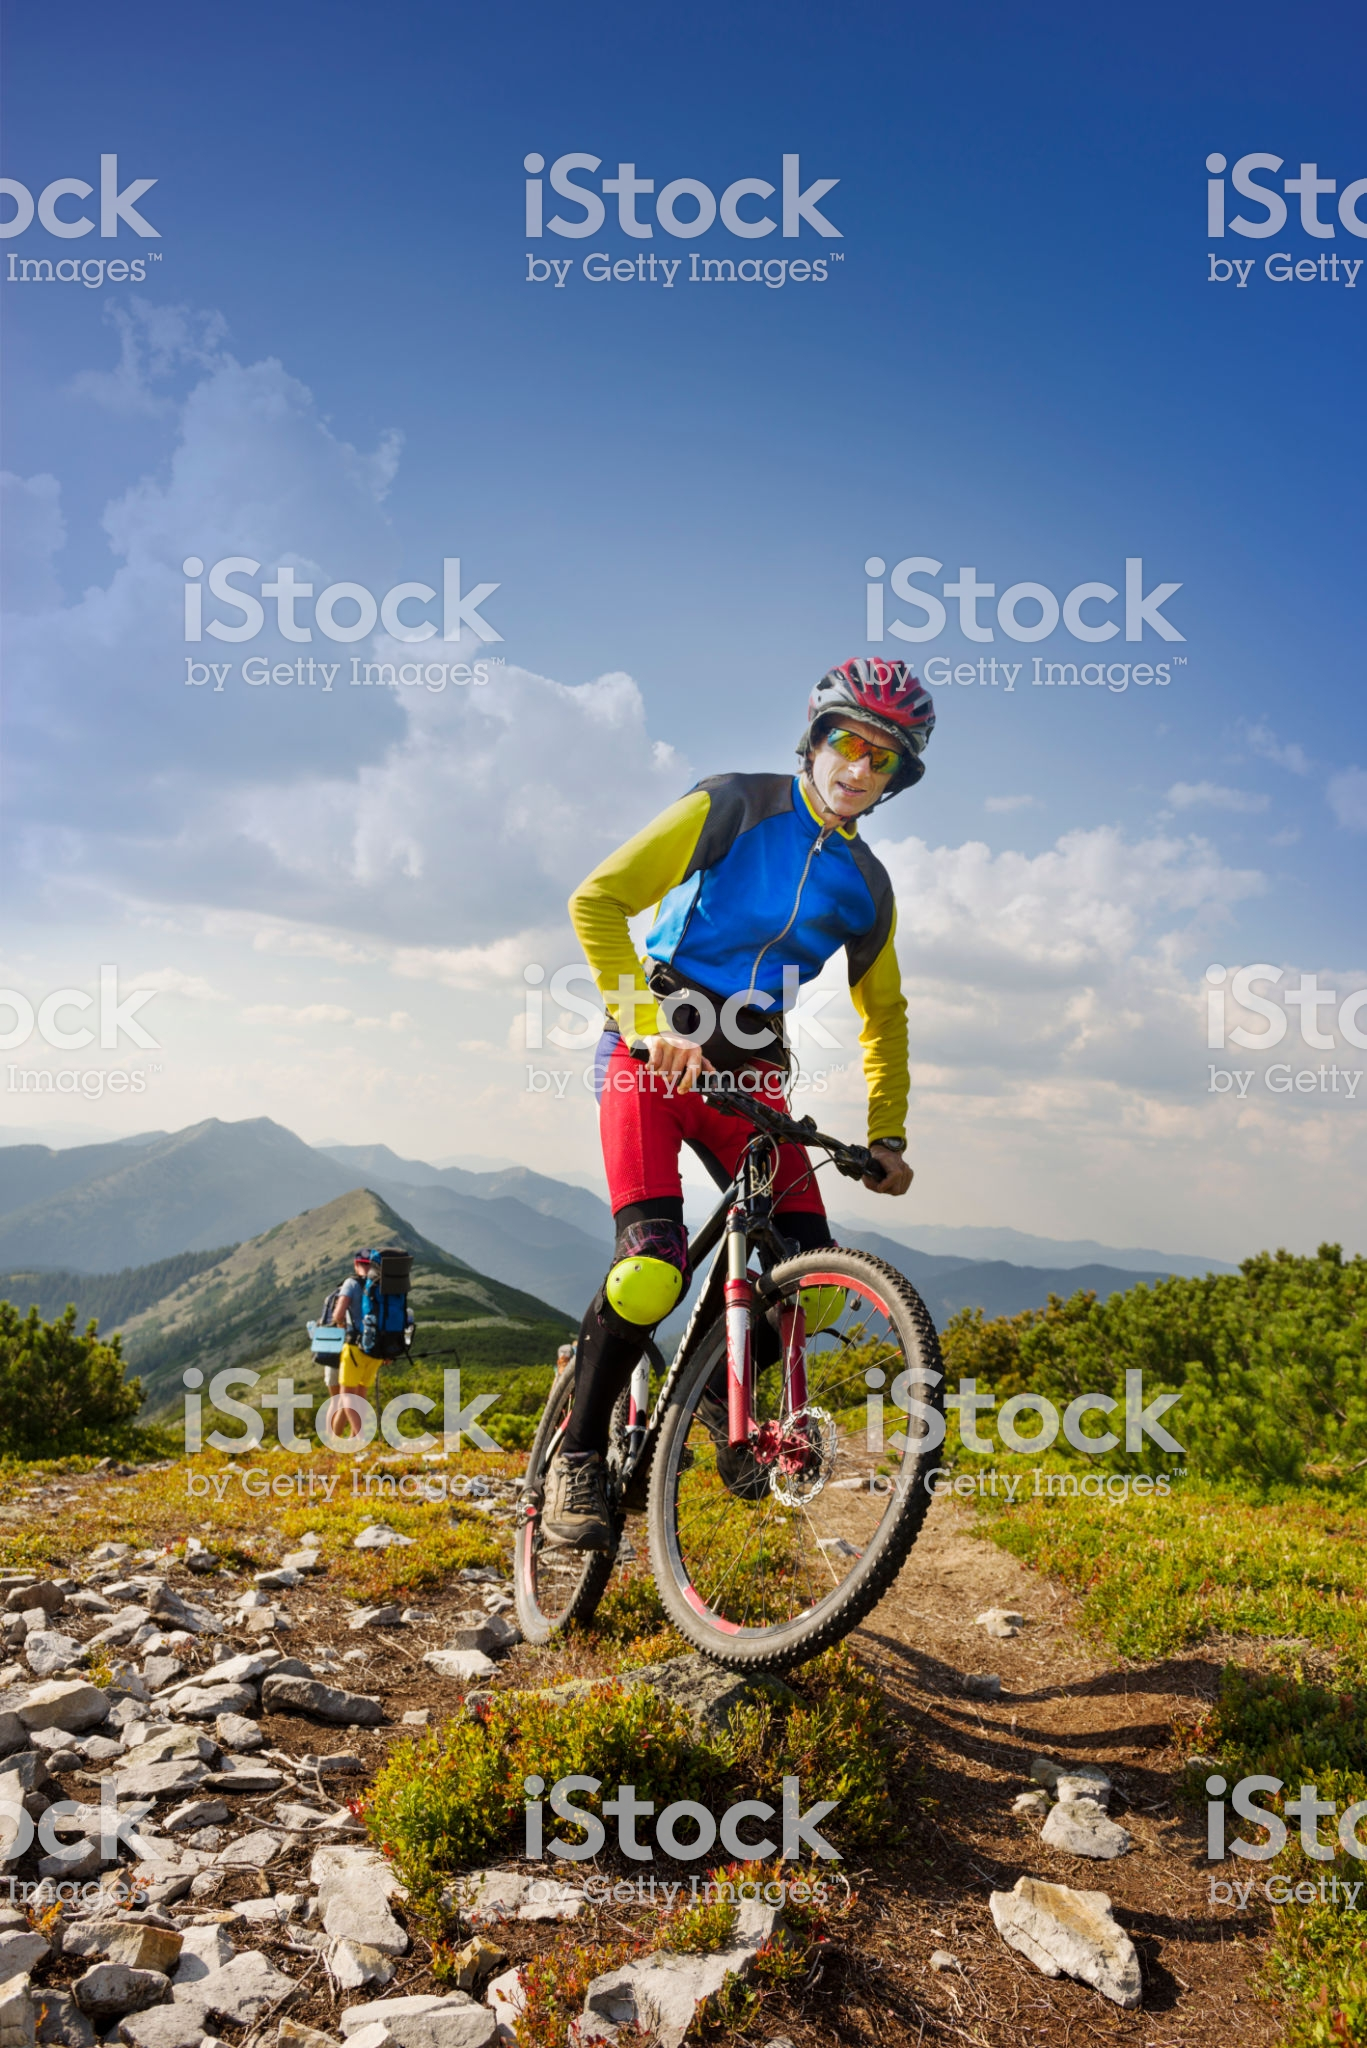helmet: (789, 653, 970, 753)
